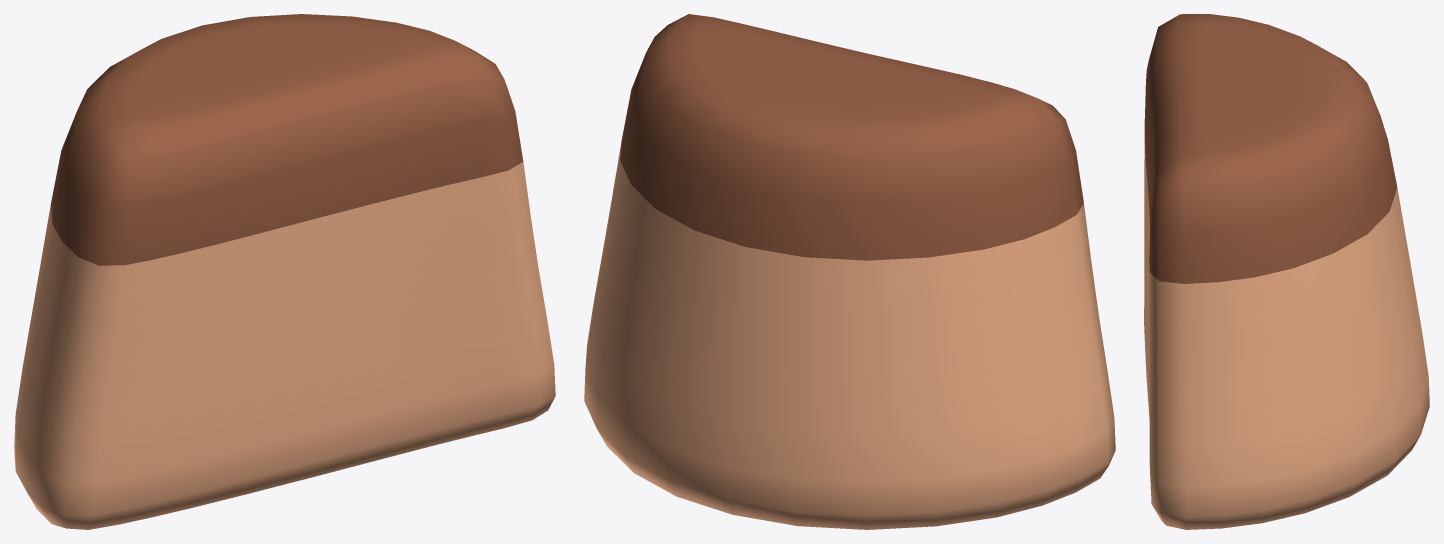
File: Pudding_A_02.fbx
3 views of the same model, side by side, from view 1: azimuth 30°, elevation 25°; view 2: azimuth 150°, elevation 25°; view 3: azimuth 270°, elevation 25° (orthographic). The views are drawn at different scales.
Parts seen in each view (by area): view 1: Pudding_A_02_LOD0; view 2: Pudding_A_02_LOD0; view 3: Pudding_A_02_LOD0.
Boxes of the visible parts, left/top/right/bottom form: Pudding_A_02_LOD0: left=14, top=14, right=555, bottom=529; Pudding_A_02_LOD0: left=584, top=14, right=1115, bottom=529; Pudding_A_02_LOD0: left=1144, top=14, right=1429, bottom=529.
Size of what is drawn, in the model's own units: 524 by 379 by 285.
